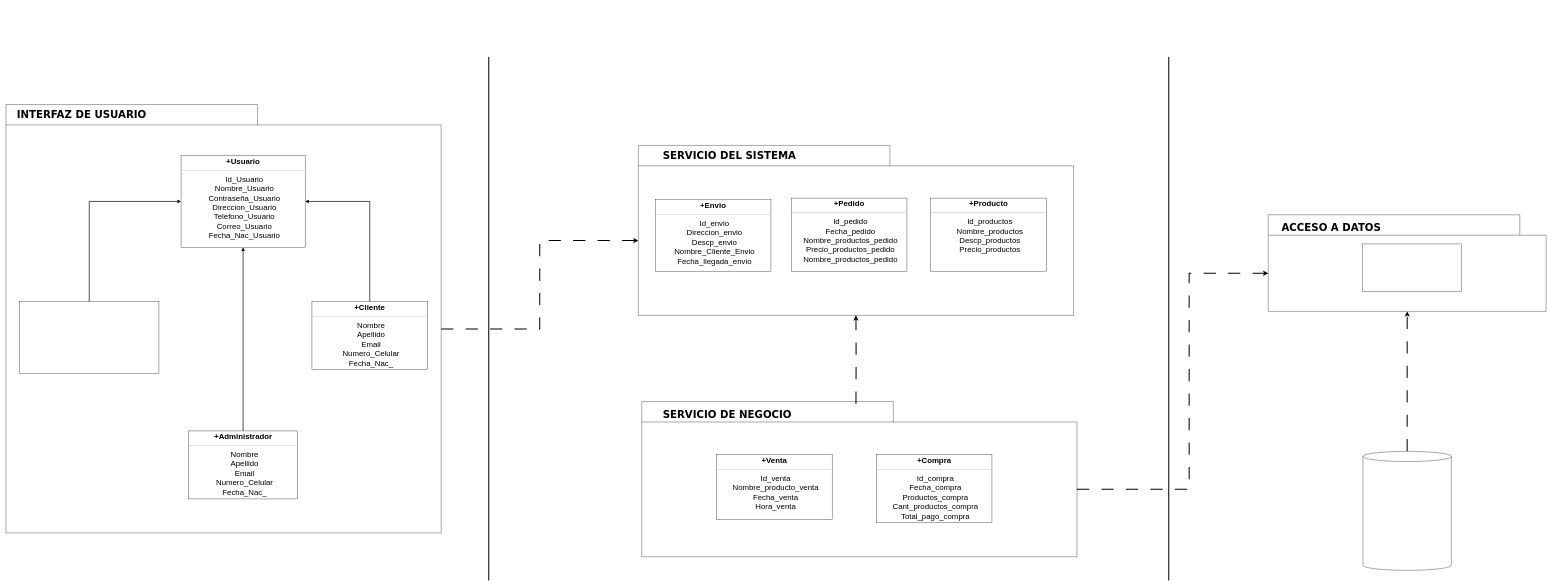
Some shapes in this 1552 by 587 pixel diagram are drawn without their labels. Each missing label, with the box of its shape:
+Empleado Nombre Apellido Email Numero_Celular Fecha_Nac_: (19, 301, 159, 373)
BASE DE DATOS: (1363, 451, 1451, 570)
JDBC: (1362, 244, 1461, 292)
